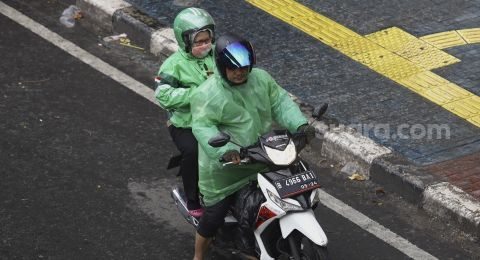plate: (273, 173, 319, 196)
